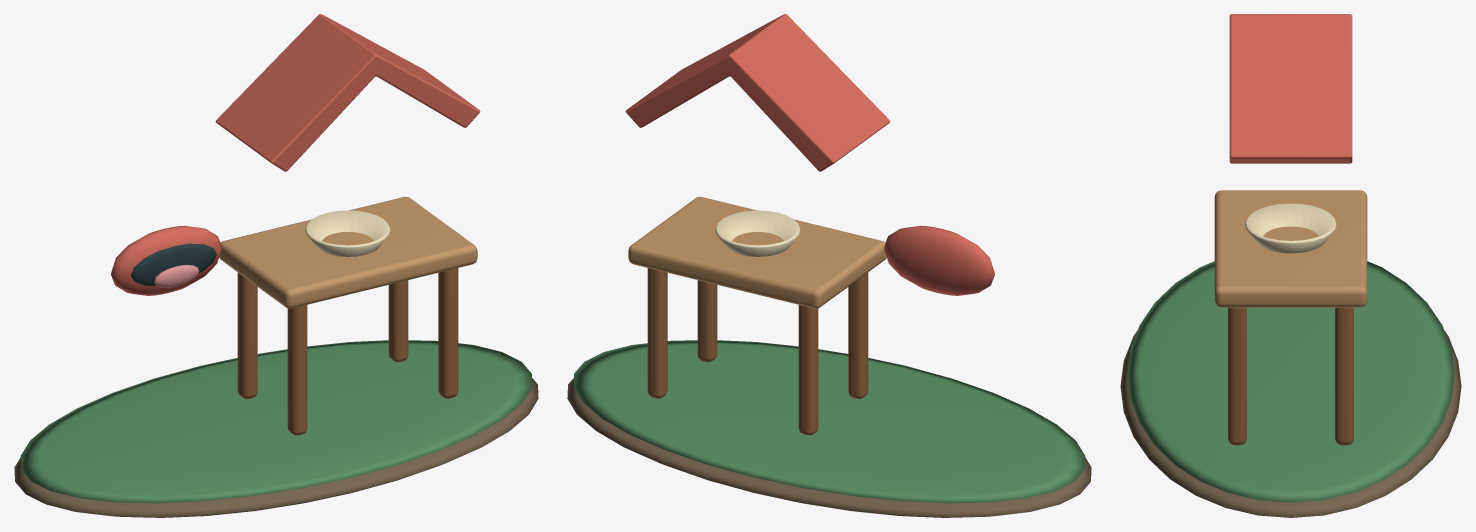
The model's file is dining-hall.glb.
3 renders of one model, left to right at view 1: azimuth 30°, elevation 25°; view 2: azimuth 150°, elevation 25°; view 3: azimuth 270°, elevation 25°, orthographic. The views are drawn at different scales.
Visible parts, largest first — view 1: dining-hall_surface_01, dining-hall_surface_02, dining-hall_surface_05, dining-hall_surface_06, dining-hall_surface_00, dining-hall_surface_07, dining-hall_surface_03, dining-hall_surface_04; view 2: dining-hall_surface_01, dining-hall_surface_02, dining-hall_surface_05, dining-hall_surface_06, dining-hall_surface_00, dining-hall_surface_07; view 3: dining-hall_surface_01, dining-hall_surface_02, dining-hall_surface_05, dining-hall_surface_00, dining-hall_surface_06, dining-hall_surface_07.
Part boxes in pixels (x1,y1,x2,y2): dining-hall_surface_01: [20, 340, 532, 503]; dining-hall_surface_02: [111, 14, 480, 295]; dining-hall_surface_05: [219, 196, 477, 308]; dining-hall_surface_06: [237, 268, 458, 435]; dining-hall_surface_00: [14, 378, 538, 517]; dining-hall_surface_07: [305, 210, 390, 256]; dining-hall_surface_03: [131, 243, 216, 285]; dining-hall_surface_04: [154, 265, 199, 287]; dining-hall_surface_01: [573, 340, 1085, 503]; dining-hall_surface_02: [625, 14, 994, 295]; dining-hall_surface_05: [628, 196, 886, 308]; dining-hall_surface_06: [647, 268, 868, 435]; dining-hall_surface_00: [567, 378, 1091, 517]; dining-hall_surface_07: [715, 210, 800, 256]; dining-hall_surface_01: [1127, 261, 1454, 502]; dining-hall_surface_02: [1229, 14, 1352, 163]; dining-hall_surface_05: [1214, 190, 1367, 307]; dining-hall_surface_00: [1120, 331, 1461, 517]; dining-hall_surface_06: [1228, 307, 1353, 445]; dining-hall_surface_07: [1245, 203, 1336, 253].
Bounding box in the file's own units: 4.56 × 3.44 × 2.5.
